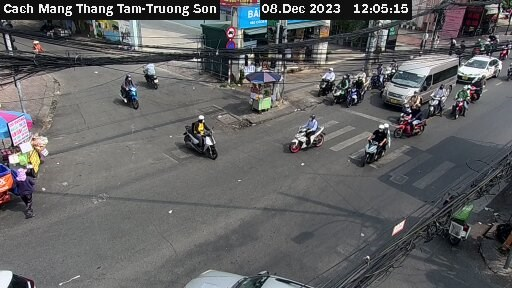car: (383, 52, 452, 105), (459, 52, 503, 87)
motorbike: (170, 119, 229, 166), (351, 124, 400, 161), (285, 116, 326, 151), (114, 77, 149, 110), (395, 106, 428, 139), (134, 61, 171, 87), (423, 84, 451, 118), (449, 91, 473, 120), (463, 75, 493, 98), (314, 67, 339, 94), (326, 77, 349, 100), (344, 80, 366, 102)
